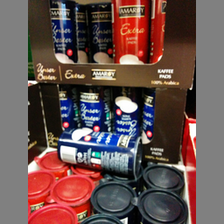coffee: (55, 127, 142, 179), (107, 1, 150, 64), (85, 3, 113, 63), (50, 1, 77, 61), (77, 86, 111, 130), (112, 87, 140, 133)
